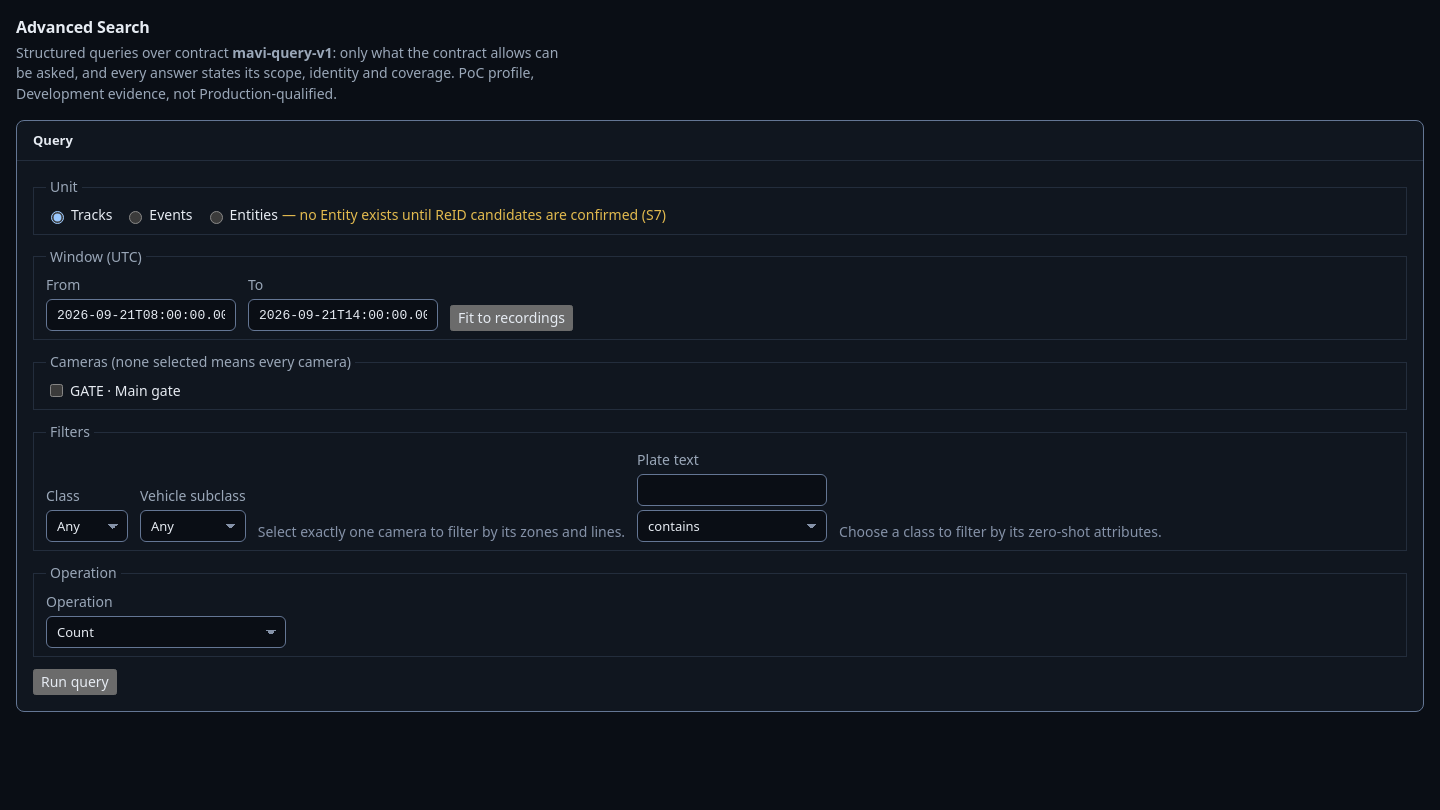
Test: Advanced Search › lists operator-confirmed Entities with a link to each, labelled as a judgement and not an identification
The image size is (1440, 810).
Click the radio button labelled "Entities" at (216, 217), box [210,210,223,224]
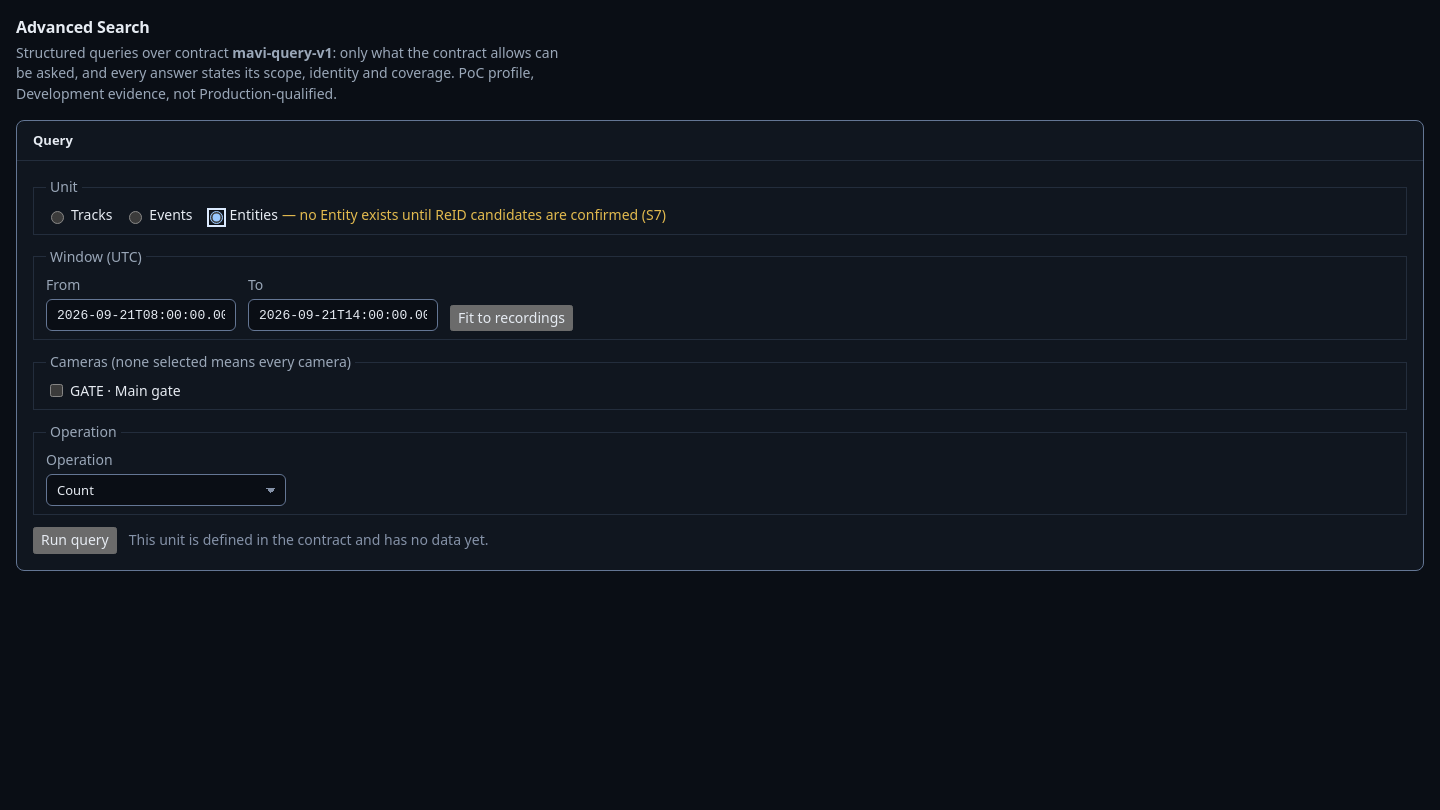
Click the button "Run query" at (75, 541), box [33,528,117,554]
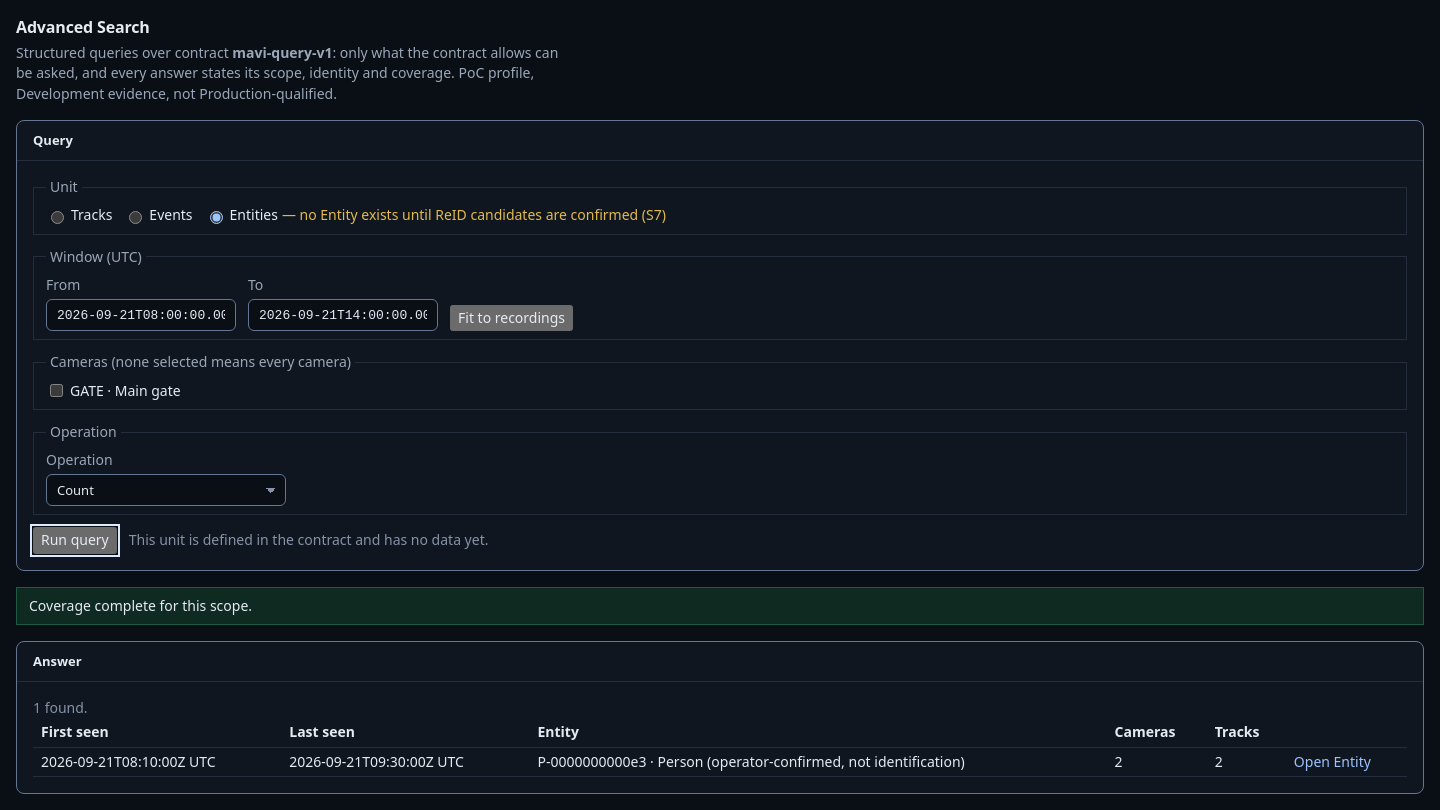
Expected: the text "P-0000000000e3 · Person (operator-confirmed, not identification)" is shown, [530,747,1107,777]
